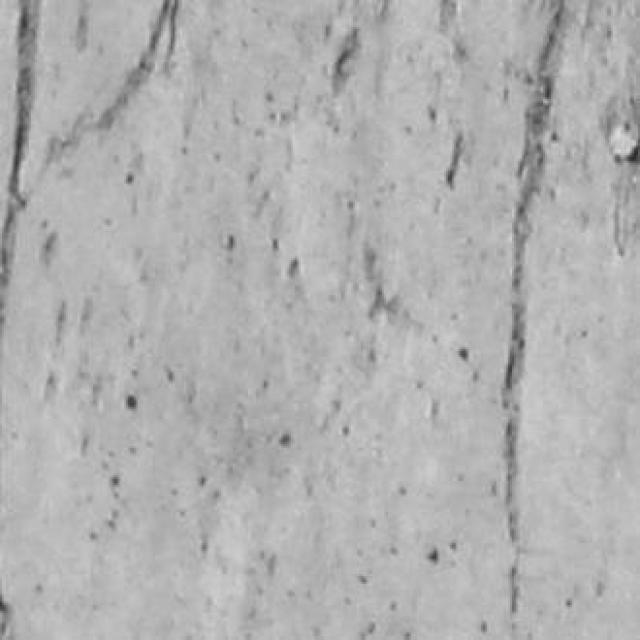crack: (503, 0, 566, 638), (41, 0, 180, 176), (0, 0, 40, 370), (0, 0, 40, 349), (94, 0, 178, 129), (332, 28, 360, 95), (447, 132, 463, 190), (0, 594, 13, 639), (439, 0, 457, 31)
